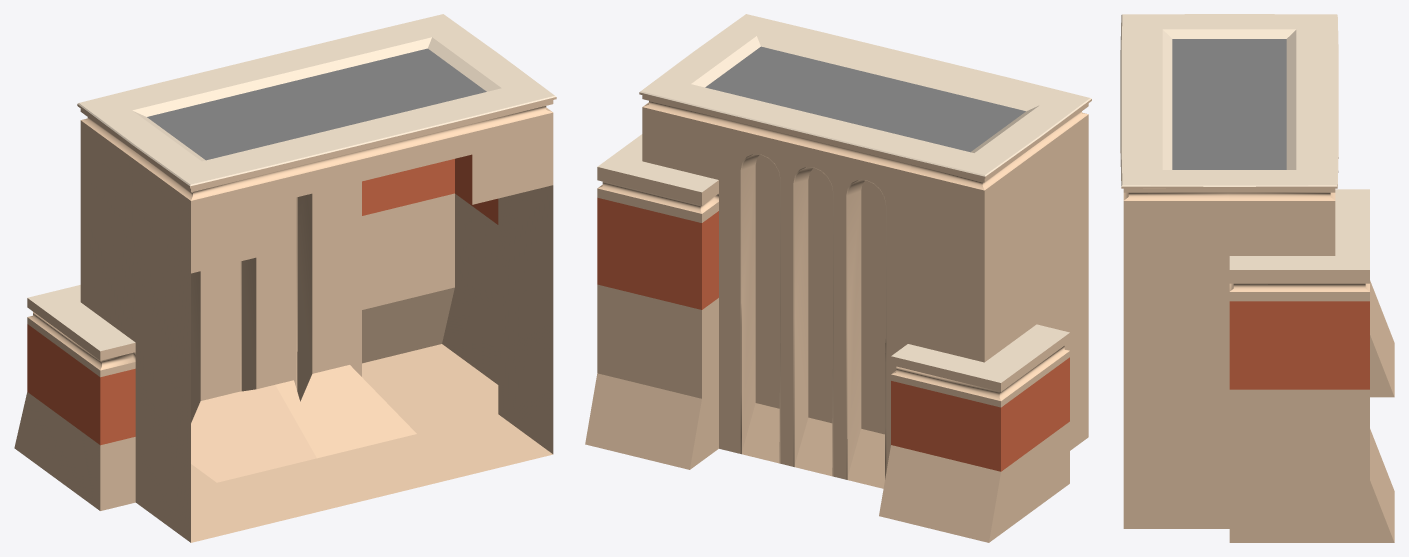
The picture shows the model from 3 angles, left to right: view 1: azimuth 30°, elevation 25°; view 2: azimuth 150°, elevation 25°; view 3: azimuth 270°, elevation 25°; orthographic projection. The views are drawn at different scales.
Visible parts, largest first — view 1: LS_A2; view 2: LS_A2; view 3: LS_A2.
Part boxes in pixels (x1,y1,x2,y2): LS_A2: (14, 14, 556, 542); LS_A2: (585, 14, 1091, 542); LS_A2: (1120, 14, 1394, 542).
Bounding box in the file's own units: 3828 × 3071 × 2215.
